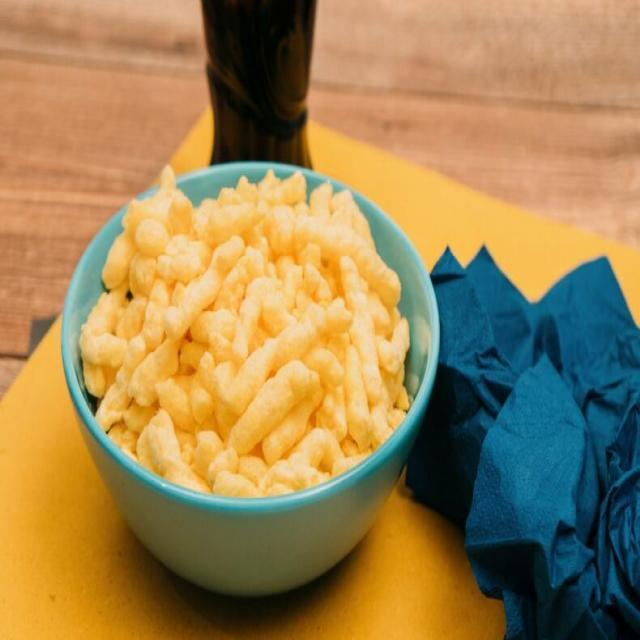Chips packaged: (88, 179, 408, 479)
